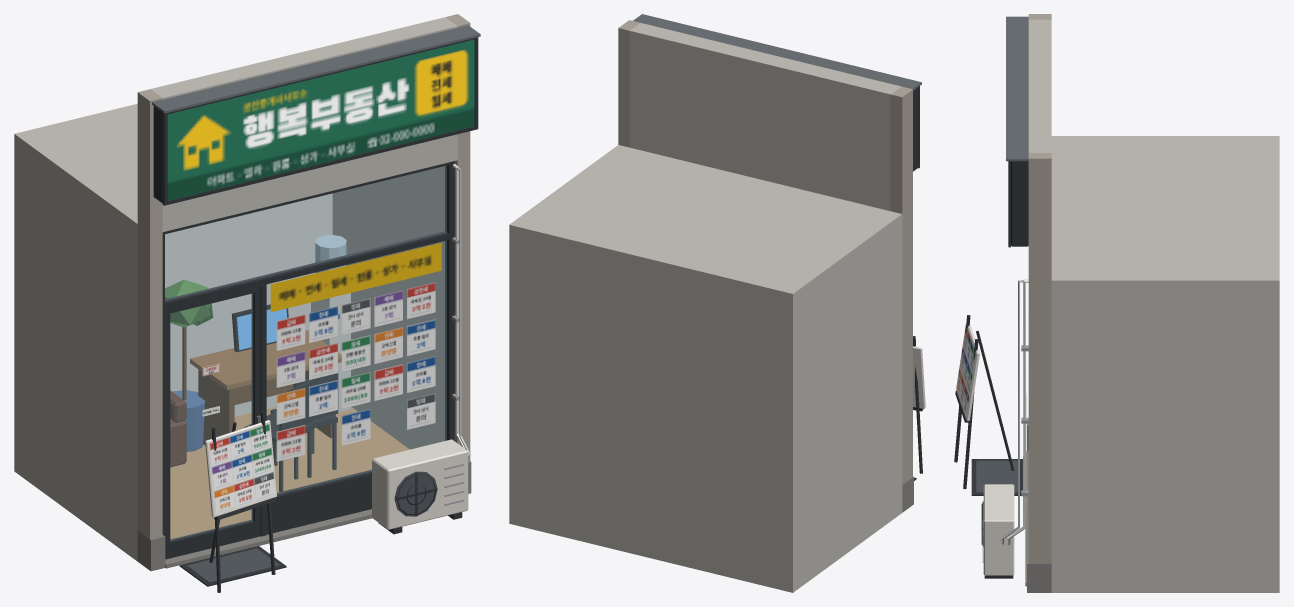
Rendered from SC_Shop_RealEstate.gltf.
3 views of the same model, side by side, from view 1: azimuth 30°, elevation 25°; view 2: azimuth 150°, elevation 25°; view 3: azimuth 270°, elevation 25° (orthographic). The views are drawn at different scales.
Parts seen in each view (by area): view 1: SC_Shop_RealEstate; view 2: SC_Shop_RealEstate; view 3: SC_Shop_RealEstate.
Part boxes in pixels (<box>): SC_Shop_RealEstate: <box>14,14,480,592</box>; SC_Shop_RealEstate: <box>509,14,925,592</box>; SC_Shop_RealEstate: <box>954,14,1279,592</box>.
Bounding box in the file's own units: 3 × 4.2 × 2.85.
5 materials, 5 textured.
